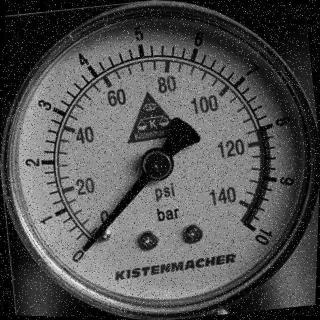gauge: (0, 0, 320, 320), (232, 208, 276, 251), (140, 146, 174, 182), (68, 231, 102, 266), (78, 238, 95, 255)
